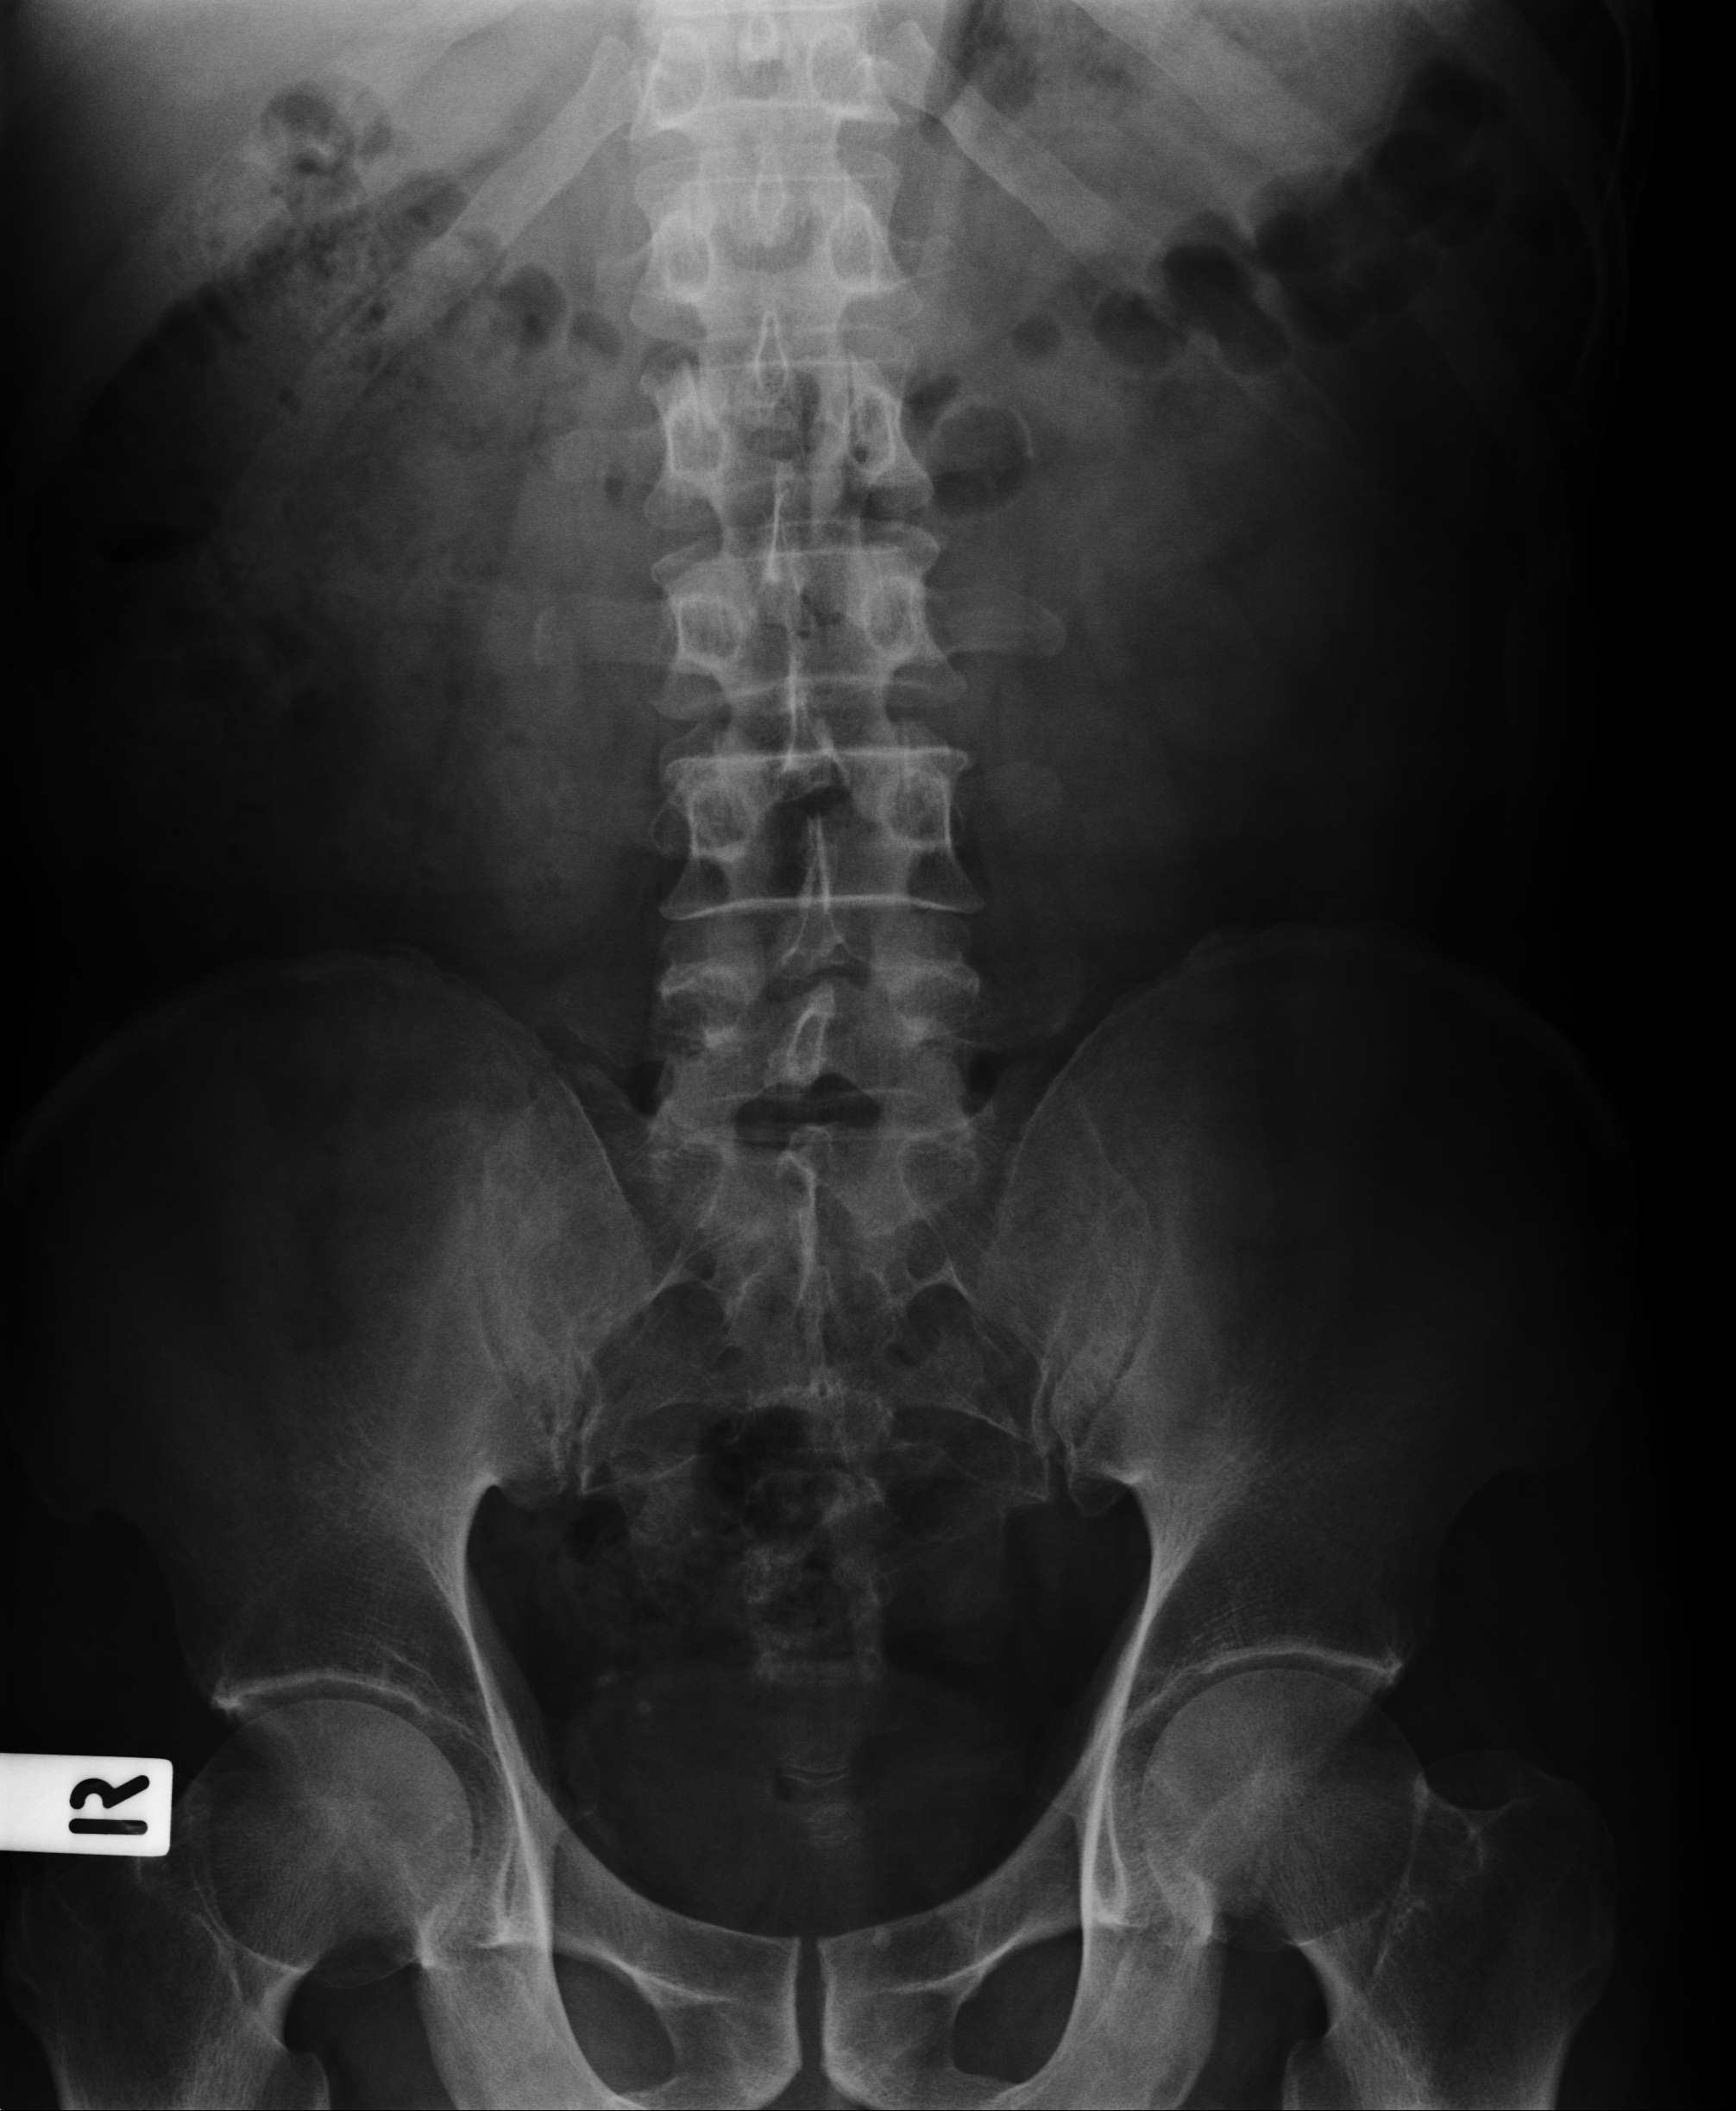lumbar scoliosis: (621, 18, 993, 1257)
